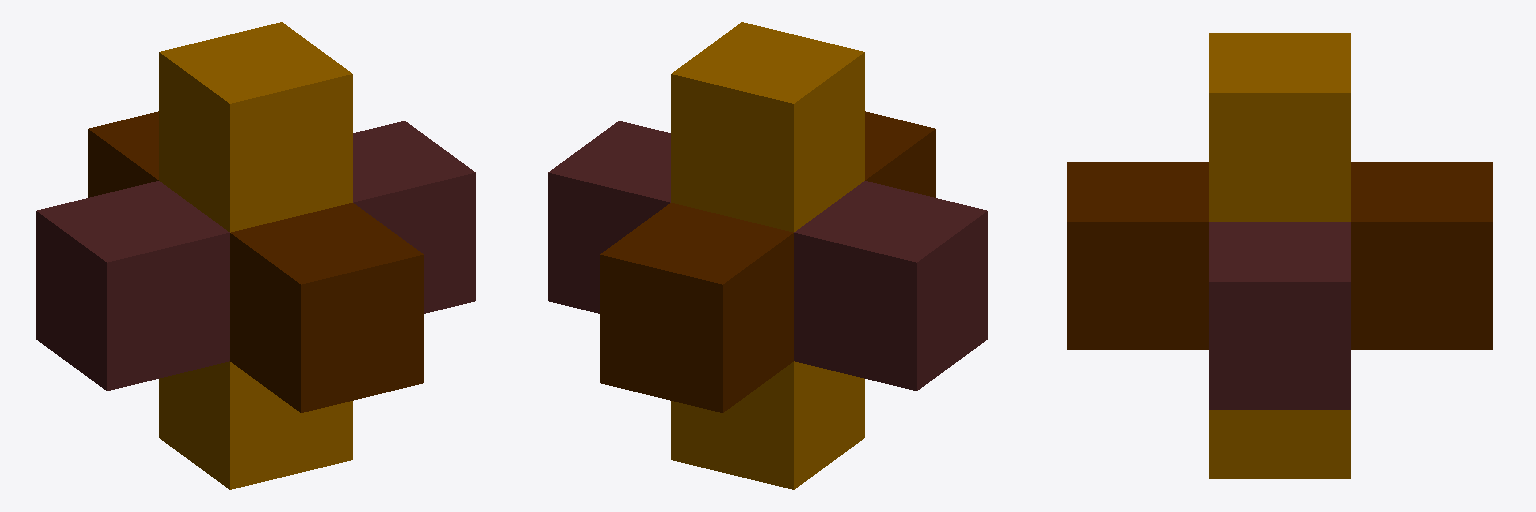
3 renders of one model, left to right at view 1: azimuth 30°, elevation 25°; view 2: azimuth 150°, elevation 25°; view 3: azimuth 270°, elevation 25°, orthographic.
Visible parts, largest first — view 1: ObjObject.002; view 2: ObjObject.002; view 3: ObjObject.002.
Part boxes in pixels (bbox=[...]): ObjObject.002: bbox=[36, 22, 475, 489]; ObjObject.002: bbox=[548, 22, 987, 489]; ObjObject.002: bbox=[1067, 33, 1492, 478].
Bounding box in the file's own units: 0.3 × 0.3 × 0.3.
1 materials, 1 textured.